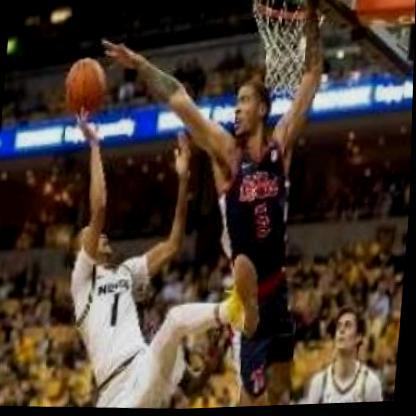basketball: (60, 53, 112, 119)
